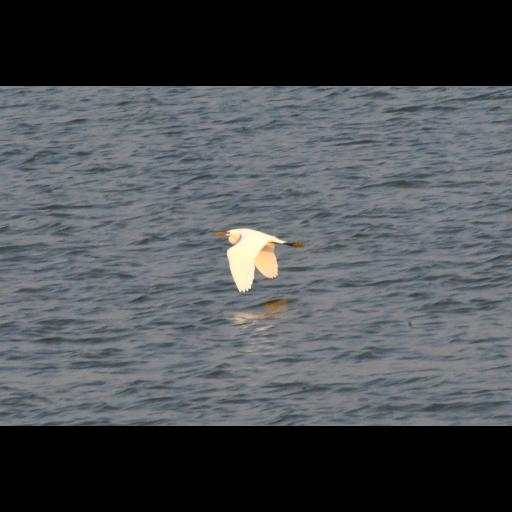chinese_egret: (210, 228, 304, 294)
